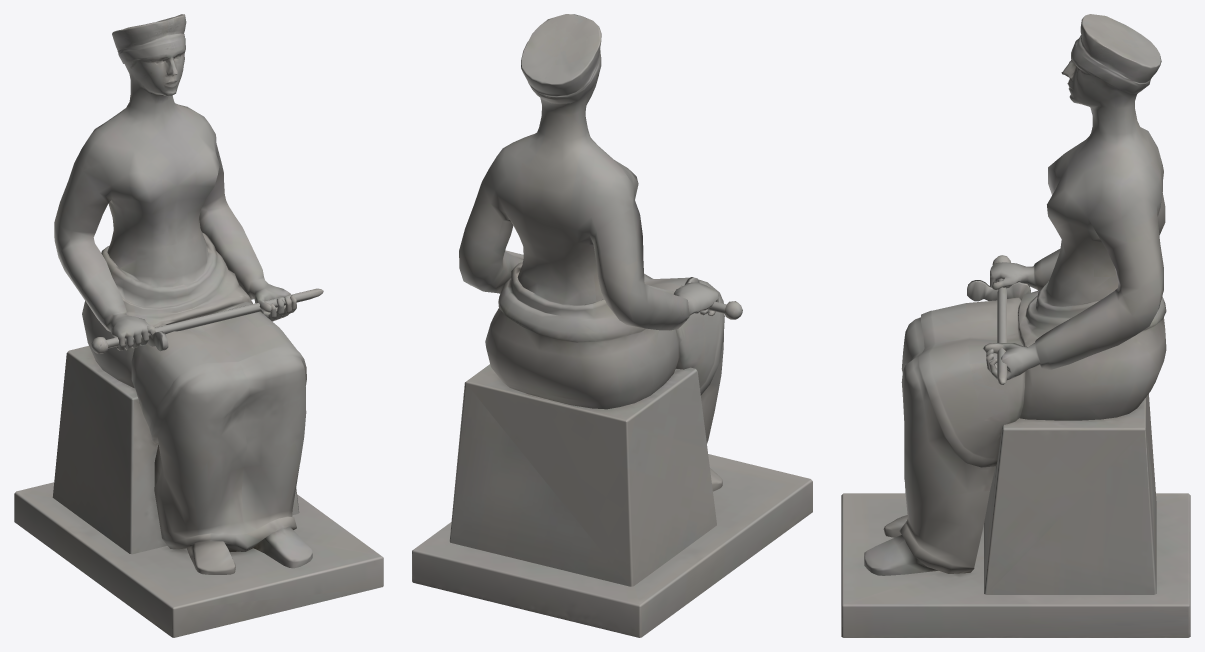
Rendered from justica.glb.
3 renders of one model, left to right at view 1: azimuth 30°, elevation 25°; view 2: azimuth 150°, elevation 25°; view 3: azimuth 270°, elevation 25°, orthographic. The views are drawn at different scales.
Visible parts, largest first — view 1: Blindfolded Granite Justice; view 2: Blindfolded Granite Justice; view 3: Blindfolded Granite Justice.
Boxes of the visible parts, x1=… form: Blindfolded Granite Justice: x1=14, y1=14, x2=383, y2=637; Blindfolded Granite Justice: x1=412, y1=14, x2=812, y2=637; Blindfolded Granite Justice: x1=841, y1=14, x2=1190, y2=637.
Size of the model in its own units: 0.4707 by 0.998 by 0.5645.
1 material, 1 textured.
